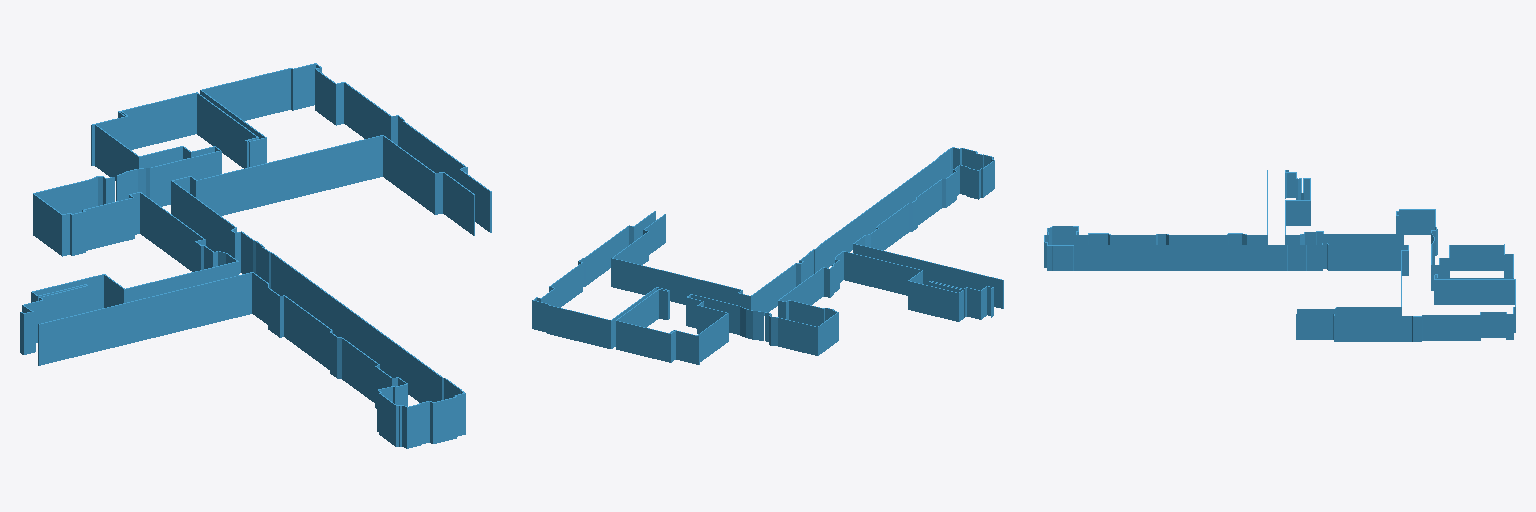
robot.urdf — glennan_2nd_floor:
<?xml version="1.0"?>
<robot  name="glennan_2nd_floor">

<!-- Used for fixing robot to Gazebo 'base_link' -->
  <link name="world"/>

  <joint name="glue_robot_to_world" type="fixed">
    <parent link="world"/>
    <child link="glennan_map"/>
    <origin xyz="0 0 0" rpy="0 0 0" />
  </joint>

 <!-- Base Link -->
  <link name="glennan_map">
    <visual>
      <origin xyz="0 0 0" rpy="0 0 0"/>
      <geometry>
        <mesh filename="package://glennan_second_floor/glennan_2nd_flr.stl"/>
      </geometry>
    </visual>
    <collision>
      <origin xyz="0 0 0" rpy="0 0 0"/>
      <geometry>
        <mesh filename="package://glennan_second_floor/glennan_2nd_flr.stl"/>
      </geometry>
    </collision>
    <inertial>
      <origin xyz="0 0 0.5" rpy="0 0 0"/>
      <mass value="1000"/>
      <inertia
        ixx="1000.0" ixy="0.0" ixz="0.0"
        iyy="1000.0" iyz="0.0"
        izz="1000.0"/>
    </inertial>
  </link>    
</robot>

--- Render facts (derived) ---
3 views of the same robot in one strip: view 1: azimuth 30°, elevation 25°; view 2: azimuth 150°, elevation 25°; view 3: azimuth 270°, elevation 25° (orthographic).
Model glennan_2nd_floor with 2 links and 1 joints (1 fixed), rooted at world, posed every joint at zero.
Links seen in each view (by area): view 1: glennan_map; view 2: glennan_map; view 3: glennan_map.
Link boxes in pixels (x1,y1,x2,y2): glennan_map: (20,63,491,448); glennan_map: (532,147,1003,364); glennan_map: (1044,170,1515,341).
Size in the robot's own frame: 31.67 by 42.88 by 2.57 metres.
Meshes: 1 distinct files referenced, 1 mesh visuals loaded (1 binary STL).
